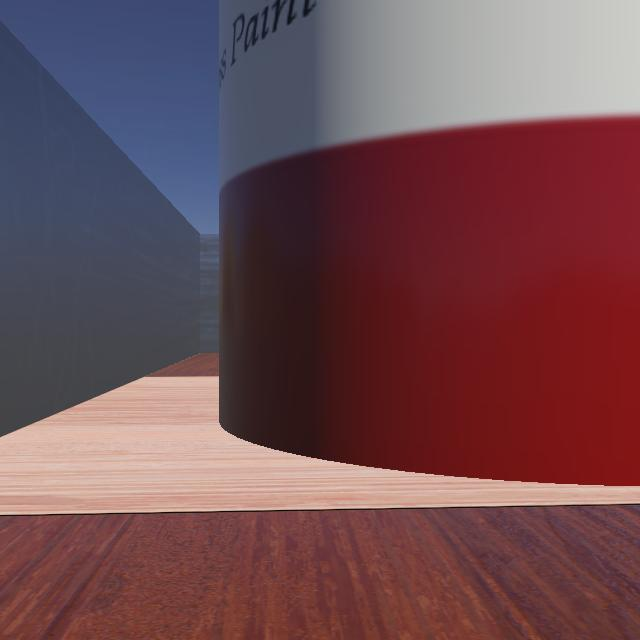paint-bucket: (139, 0, 639, 494)
